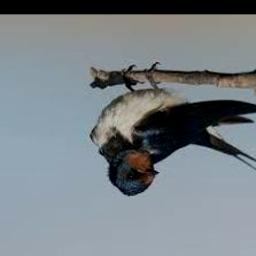Swallow: (92, 67, 256, 196)
